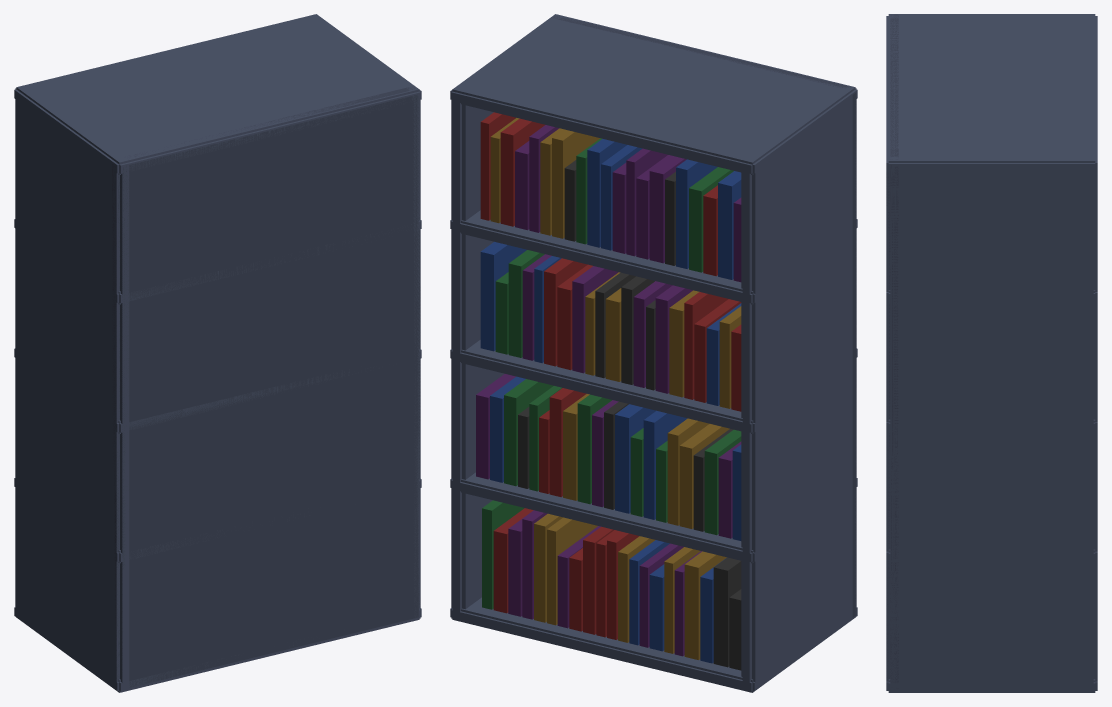
Rendered from granite_bookcase_v0.glb.
3 renders of one model, left to right at view 1: azimuth 30°, elevation 25°; view 2: azimuth 150°, elevation 25°; view 3: azimuth 270°, elevation 25°, orthographic.
Visible parts, largest first — view 1: granite_bookcase_v0; view 2: granite_bookcase_v0; view 3: granite_bookcase_v0.
Part boxes in pixels (x1=…): granite_bookcase_v0: x1=14, y1=14, x2=421, y2=692; granite_bookcase_v0: x1=450, y1=14, x2=857, y2=692; granite_bookcase_v0: x1=886, y1=14, x2=1097, y2=692.
Bounding box in the file's own units: 1.5 × 2.5 × 0.9.
